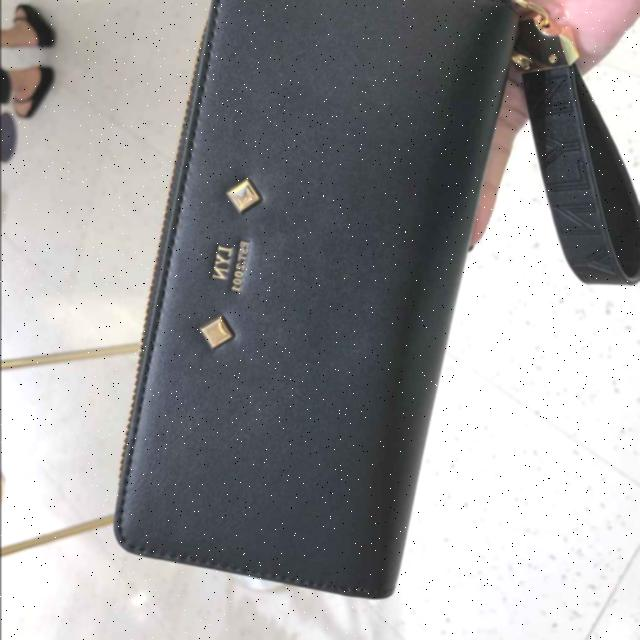Handbag: (116, 0, 524, 602)
